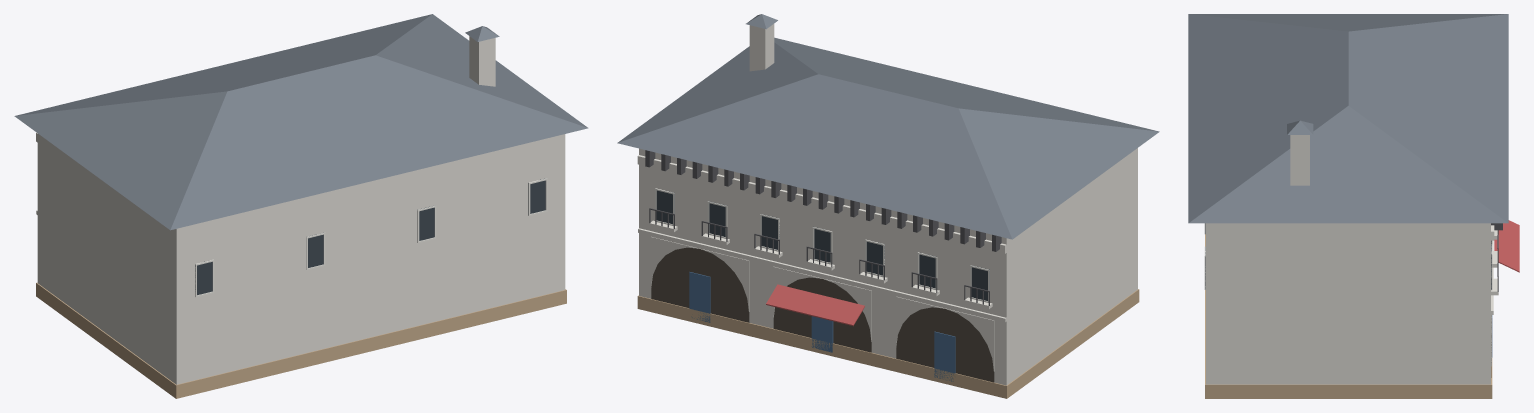
File: ca_classical2_shops.glb
The picture shows the model from 3 angles, left to right: view 1: azimuth 30°, elevation 25°; view 2: azimuth 150°, elevation 25°; view 3: azimuth 270°, elevation 25°; orthographic projection. The views are drawn at different scales.
Parts seen in each view (by area): view 1: ca_classical2_shops; view 2: ca_classical2_shops; view 3: ca_classical2_shops.
Part boxes in pixels (x1,y1,x2,y2): ca_classical2_shops: (14,14,588,398); ca_classical2_shops: (617,14,1159,398); ca_classical2_shops: (1188,14,1519,398).
Size of the model in its own units: 22.6 by 13.05 by 15.1.
